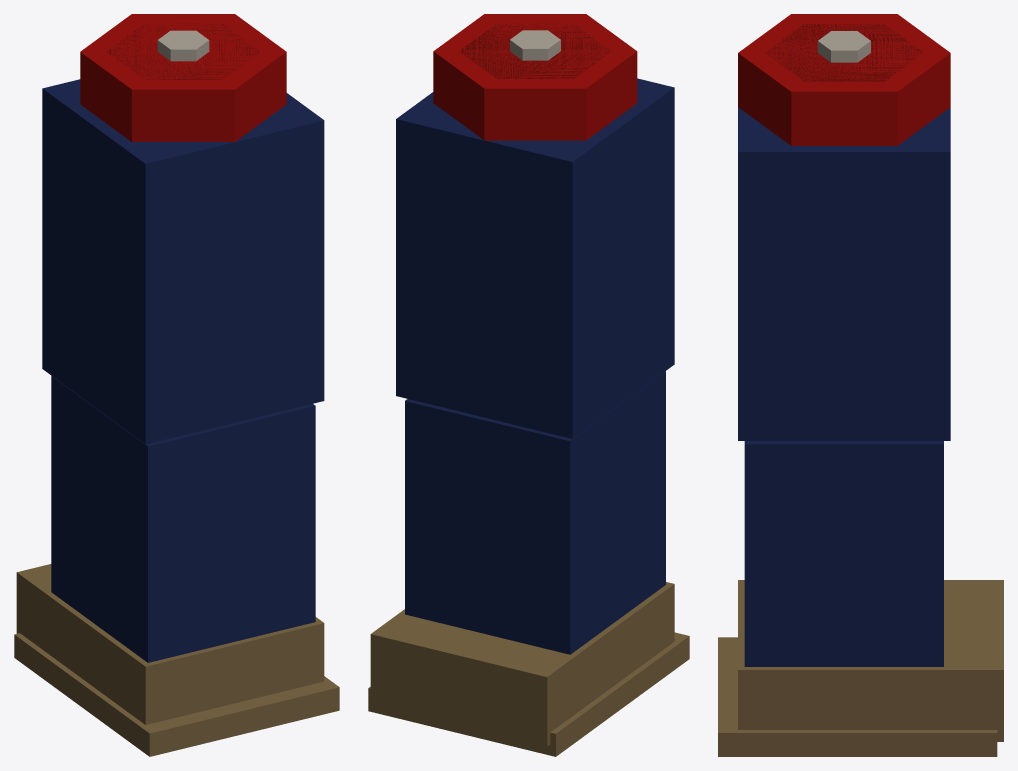
Rendered from american_leg_r.glb.
3 views of the same model, side by side, from view 1: azimuth 30°, elevation 25°; view 2: azimuth 150°, elevation 25°; view 3: azimuth 270°, elevation 25° (orthographic). The views are drawn at different scales.
Parts seen in each view (by area): view 1: american_leg_R; view 2: american_leg_R; view 3: american_leg_R.
Boxes of the visible parts, x1=… form: american_leg_R: x1=14, y1=14, x2=339, y2=756; american_leg_R: x1=368, y1=14, x2=689, y2=756; american_leg_R: x1=718, y1=14, x2=1003, y2=756.
Bounding box in the file's own units: 0.34 × 1.11 × 0.43.
